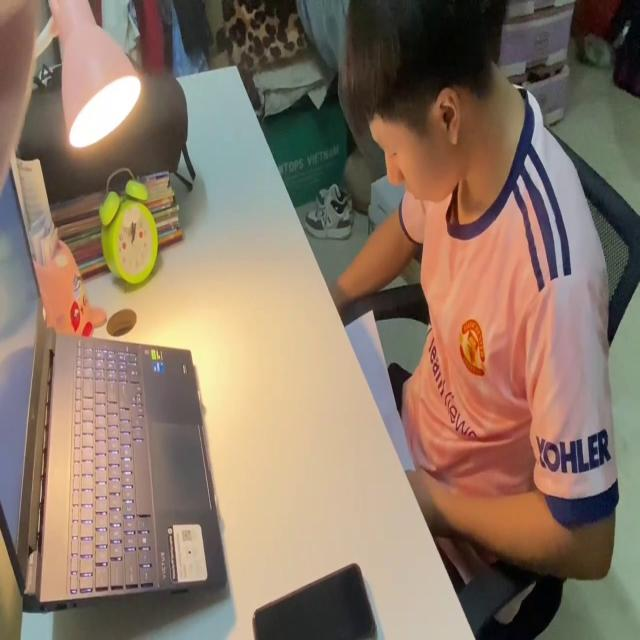book: (340, 305, 420, 482)
laptop: (0, 149, 228, 604)
phone: (252, 557, 378, 640)
student: (342, 5, 620, 593)
